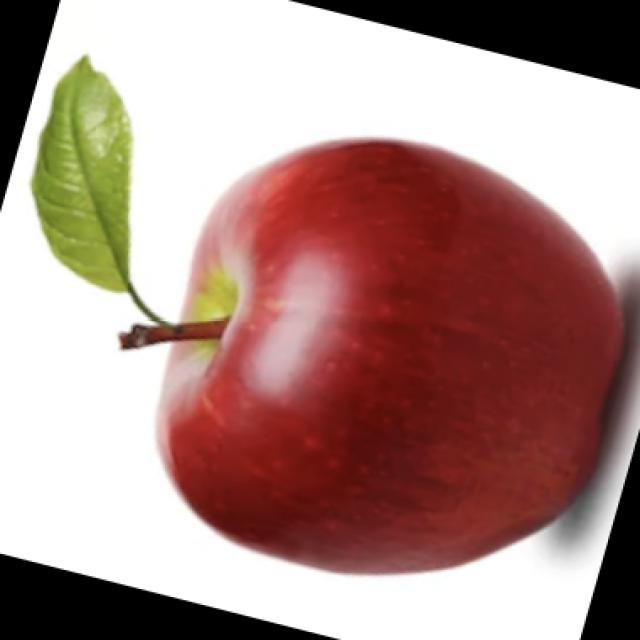Fresh Apple: (162, 140, 638, 593)
